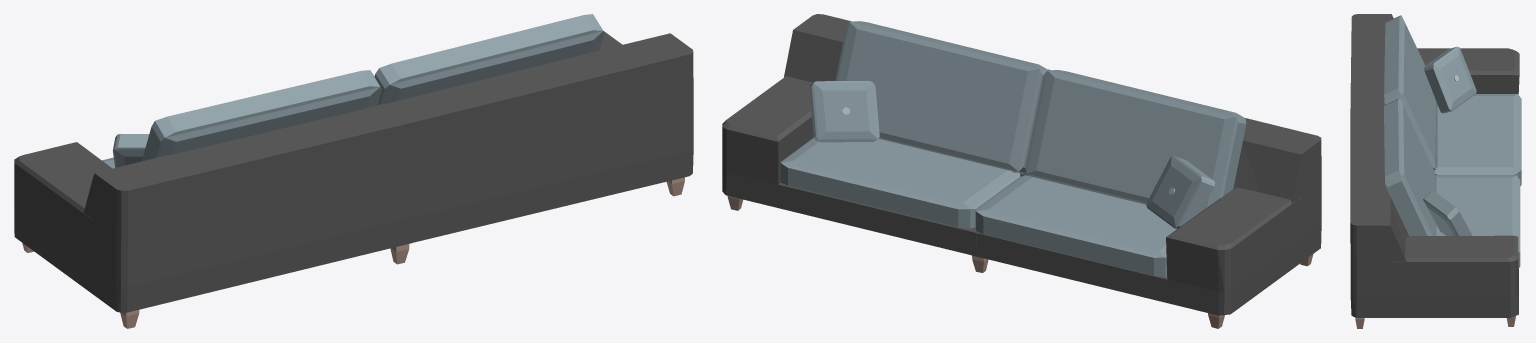
Rendered from couch01.gltf.
3 renders of one model, left to right at view 1: azimuth 30°, elevation 25°; view 2: azimuth 150°, elevation 25°; view 3: azimuth 270°, elevation 25°, orthographic. The views are drawn at different scales.
Parts seen in each view (by area): view 1: model.001; view 2: model.001; view 3: model.001.
Boxes of the visible parts, x1,y1,x2,y2 form: model.001: (14,14,693,328); model.001: (722,14,1321,328); model.001: (1350,14,1521,328).
Bounding box in the file's own units: 2.44 × 0.7165 × 0.8333.
